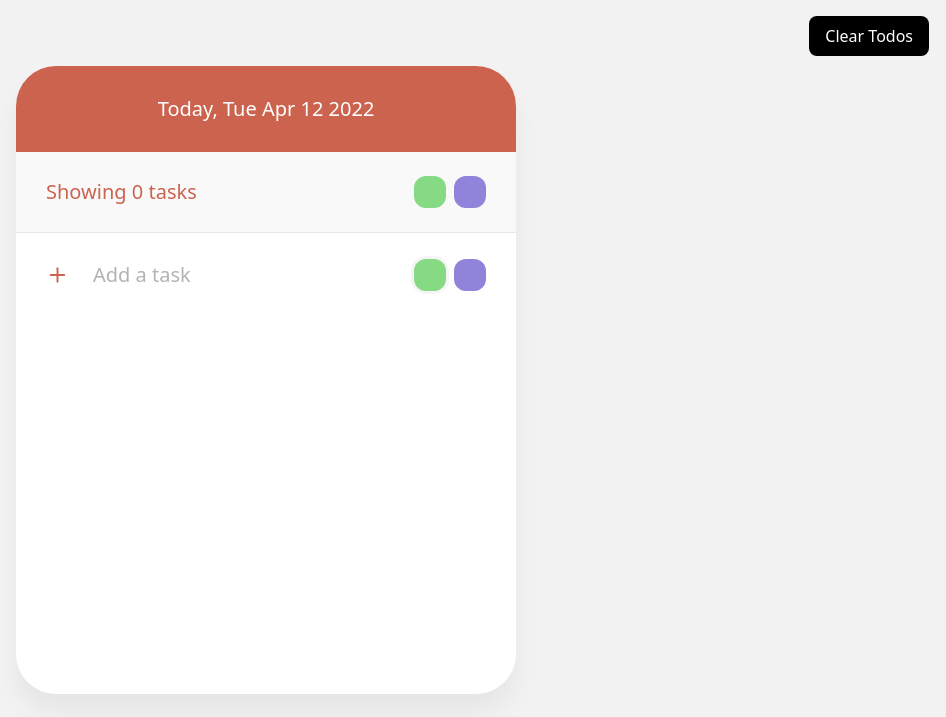
Test: When rendered › input on valued entered and "Enter" todo should be created
Type "Todo 1" into the field with test id "todo-create-component". click: (242, 275)
box: left=81, top=253, right=402, bottom=297
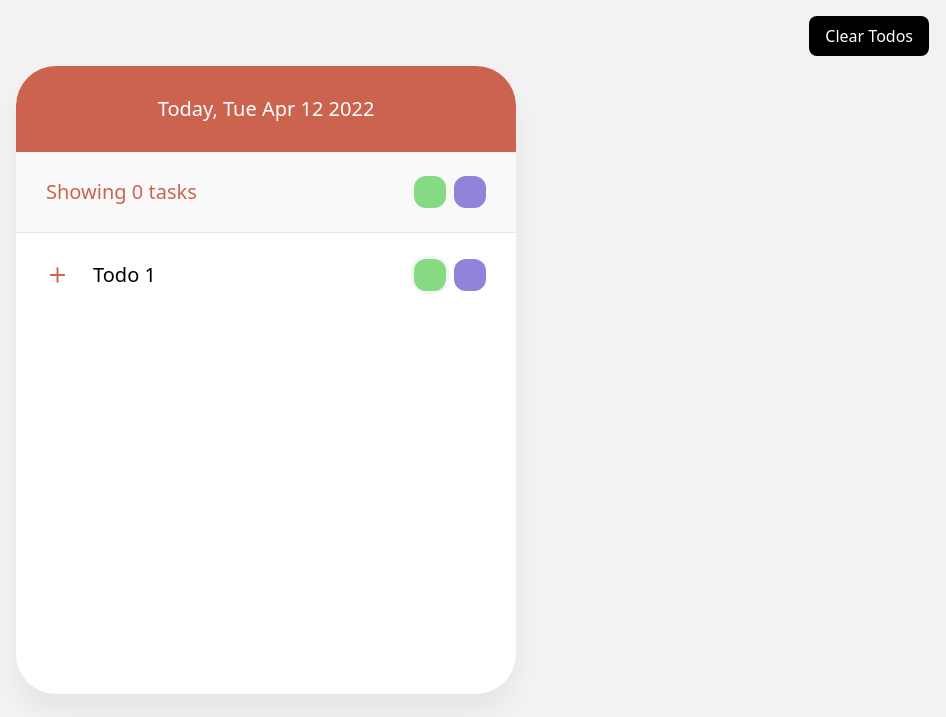
Submit the form with test id "form-component", box left=16, top=232, right=516, bottom=317
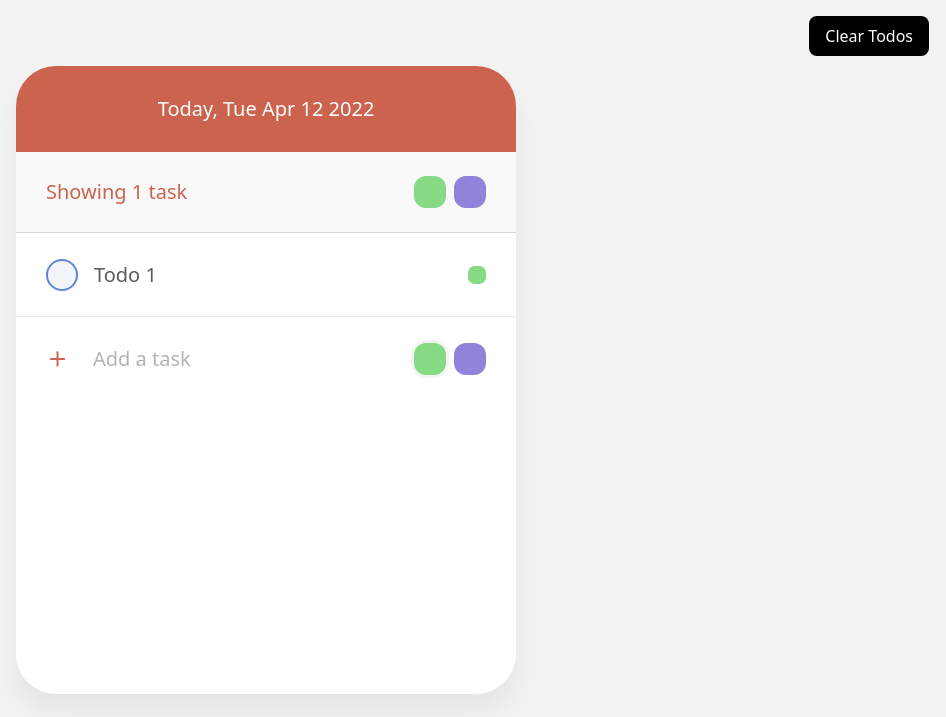
Expected: the element with test id "todolist-component" reads "Todo 1", left=94, top=260, right=157, bottom=288
